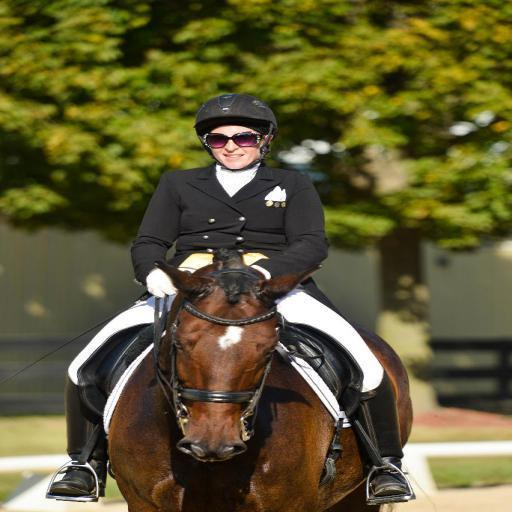horse: (108, 258, 416, 512)
